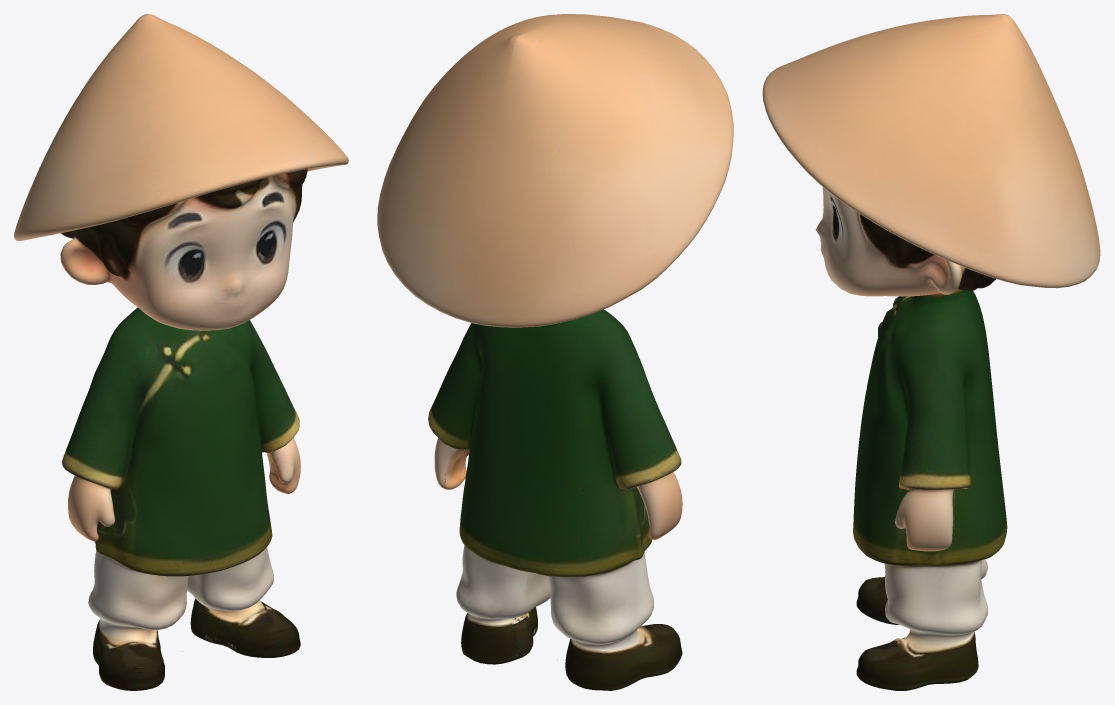
File: codo-hyper-textured-01-to-07-ar-optimized.glb
3 renders of one model, left to right at view 1: azimuth 30°, elevation 25°; view 2: azimuth 150°, elevation 25°; view 3: azimuth 270°, elevation 25°, orthographic. The views are drawn at different scales.
Parts seen in each view (by area): view 1: CoDo_Frame01_Idle_Textured; view 2: CoDo_Frame01_Idle_Textured; view 3: CoDo_Frame01_Idle_Textured.
Boxes of the visible parts, box(x1,y1,x2,y2) form: CoDo_Frame01_Idle_Textured: box(14, 14, 348, 690); CoDo_Frame01_Idle_Textured: box(377, 14, 733, 690); CoDo_Frame01_Idle_Textured: box(762, 14, 1100, 690).
Size of the model in its own units: 0.7592 by 1.55 by 0.7521.
2 materials, 2 textured.
